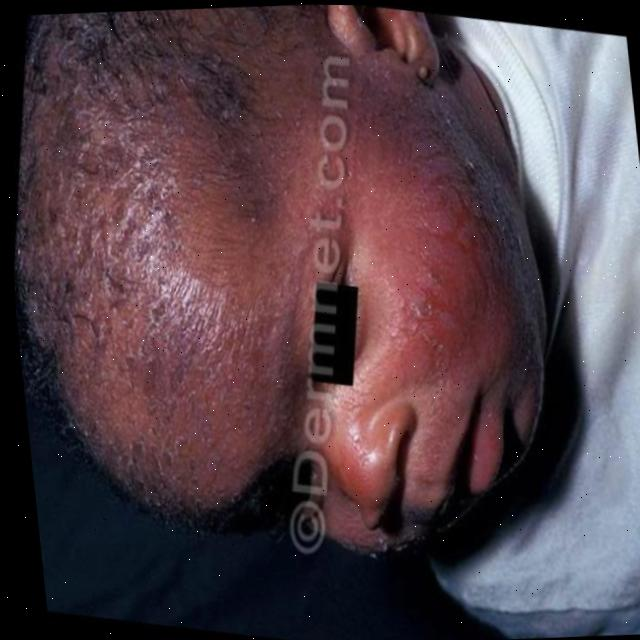Eczema: (6, 49, 229, 411)
